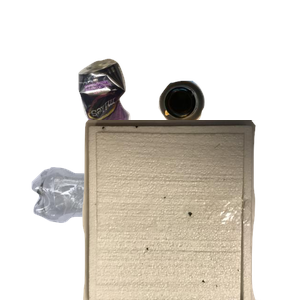glass: (156, 78, 300, 197)
metal: (75, 56, 198, 185)
plastic: (29, 165, 227, 300)
trash: (80, 120, 300, 300)
